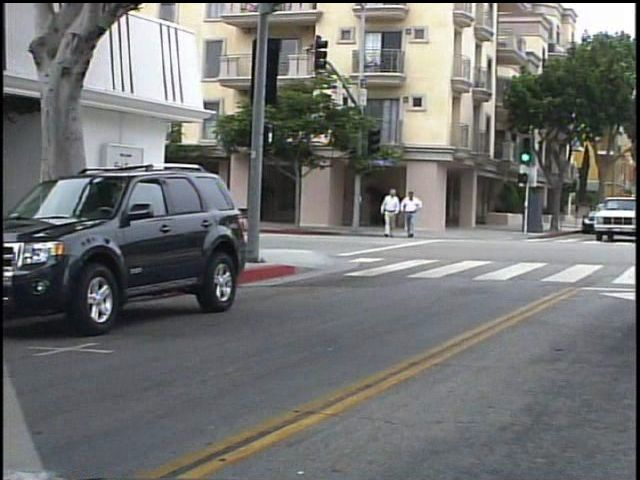person: (385, 184, 409, 245), (404, 186, 430, 242)
